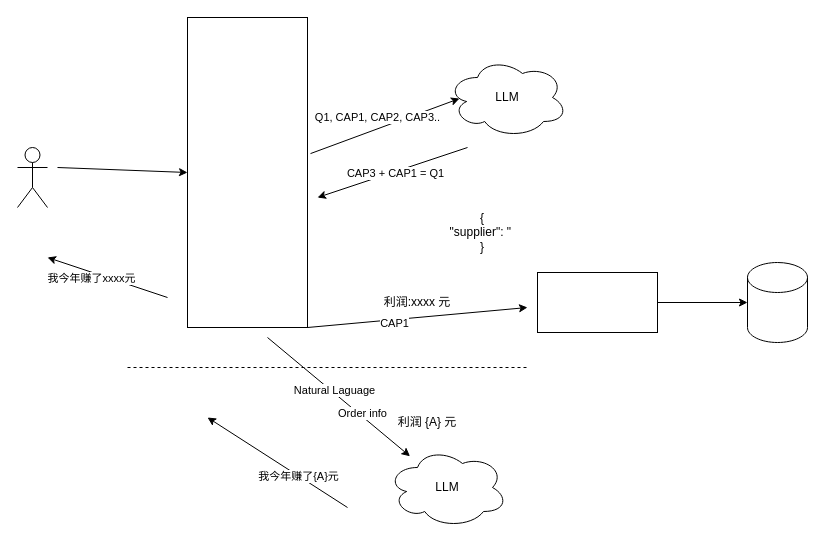
Image size: 825x545. Some labels were removed from this diagram. Here are the shapes that lost their labels. From the top down, the box of each, then its label:
(16, 146, 48, 208): Actor
(536, 272, 658, 332): >100w
